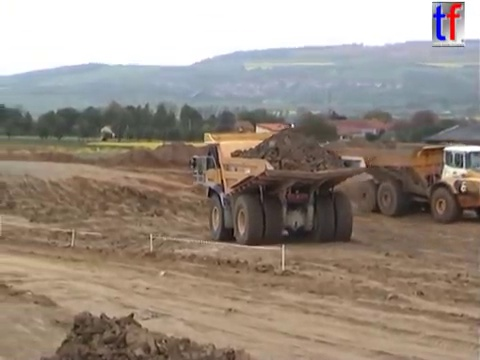truck: (187, 130, 371, 246), (351, 142, 480, 224)
